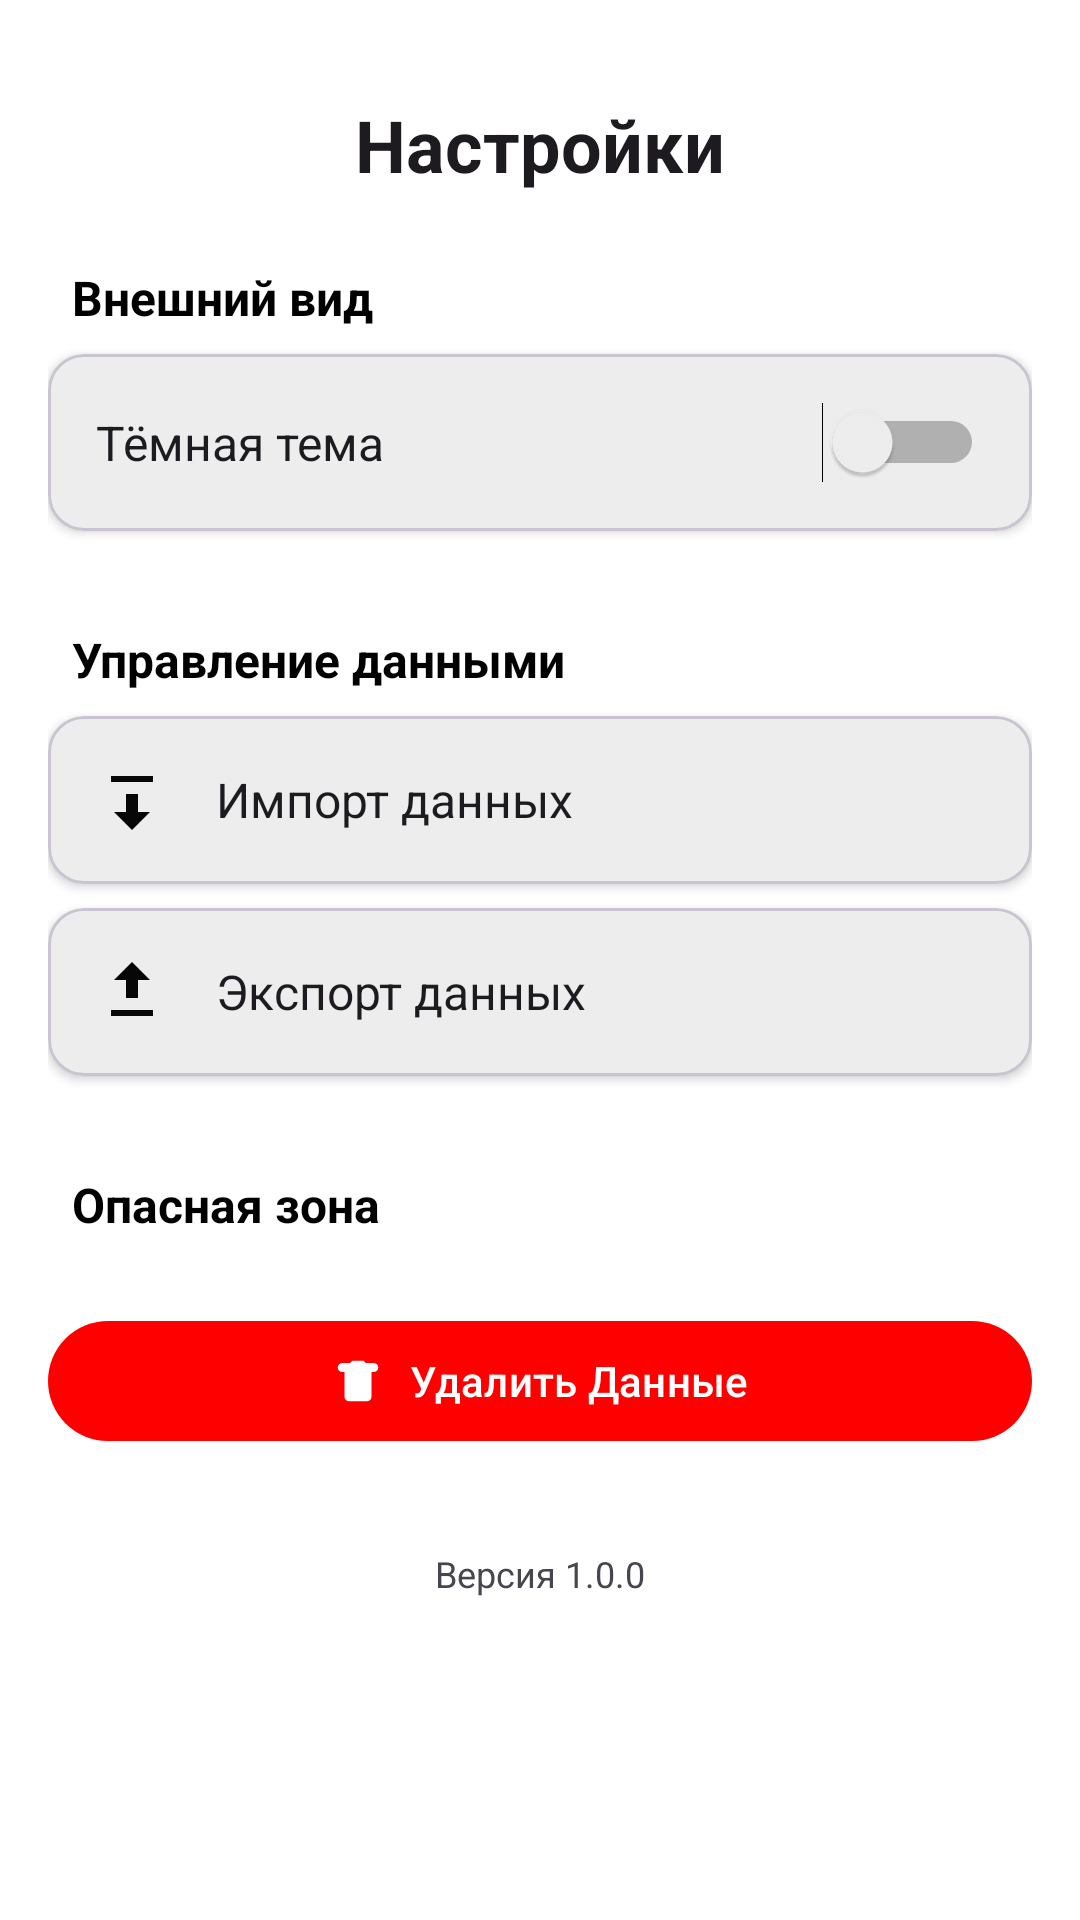

Icon bounding boxes for this 1080px x 1920px phone screenshot, format (x1, y1, x2, y2):
export: (111, 962, 153, 1016)
import: (111, 776, 153, 830)
